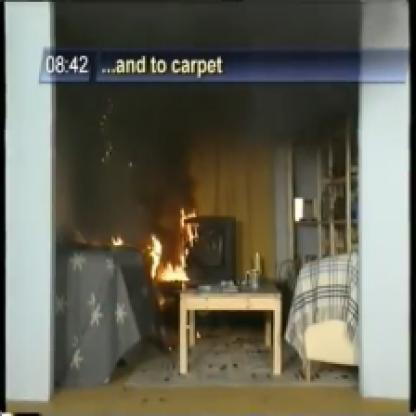fire: (142, 183, 203, 292), (98, 217, 134, 259)
